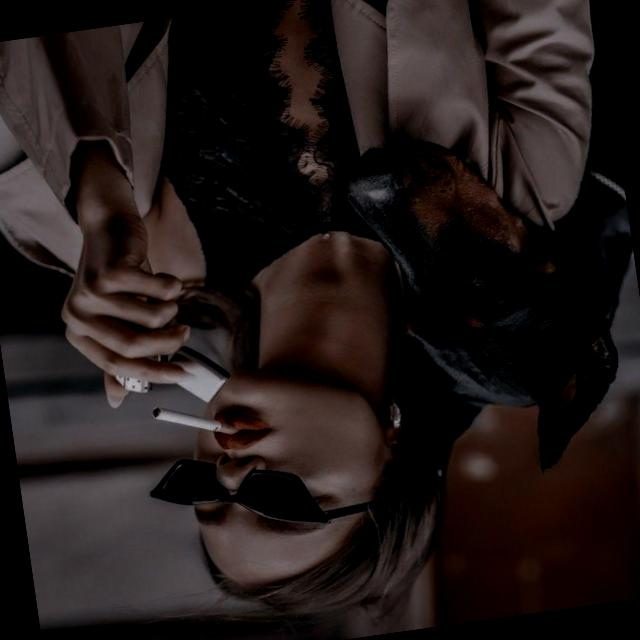smoke: (118, 394, 246, 451)
